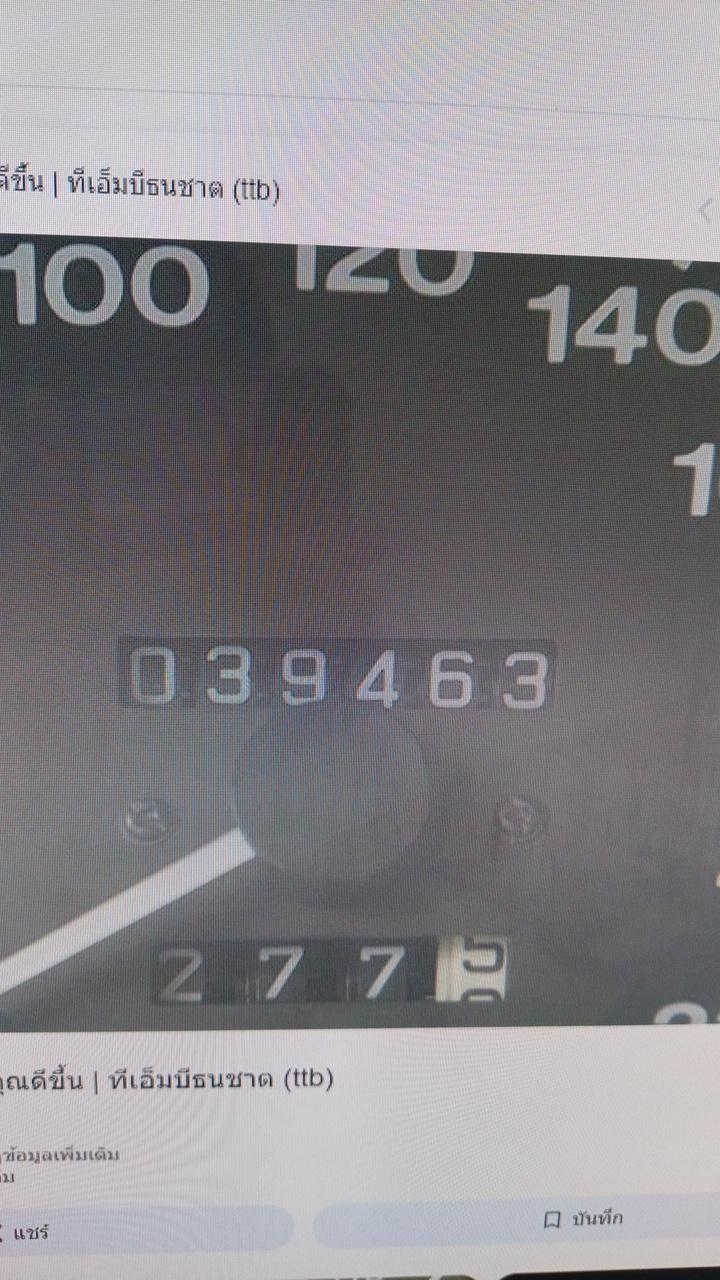0: (128, 645, 176, 707)
3: (205, 643, 253, 708), (503, 648, 548, 710)
4: (353, 648, 399, 709)
6: (429, 648, 473, 709)
9: (282, 648, 326, 708)
odometer: (117, 634, 557, 718)
